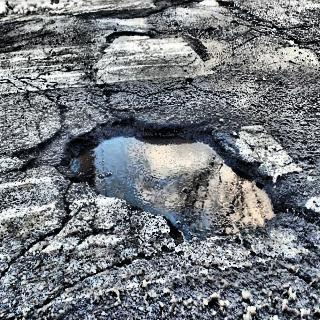alligator-crack: (230, 3, 284, 35)
crack: (1, 229, 58, 279), (16, 72, 66, 109), (84, 66, 116, 102), (119, 84, 196, 95)
pothole: (58, 116, 283, 248), (105, 28, 154, 44)
